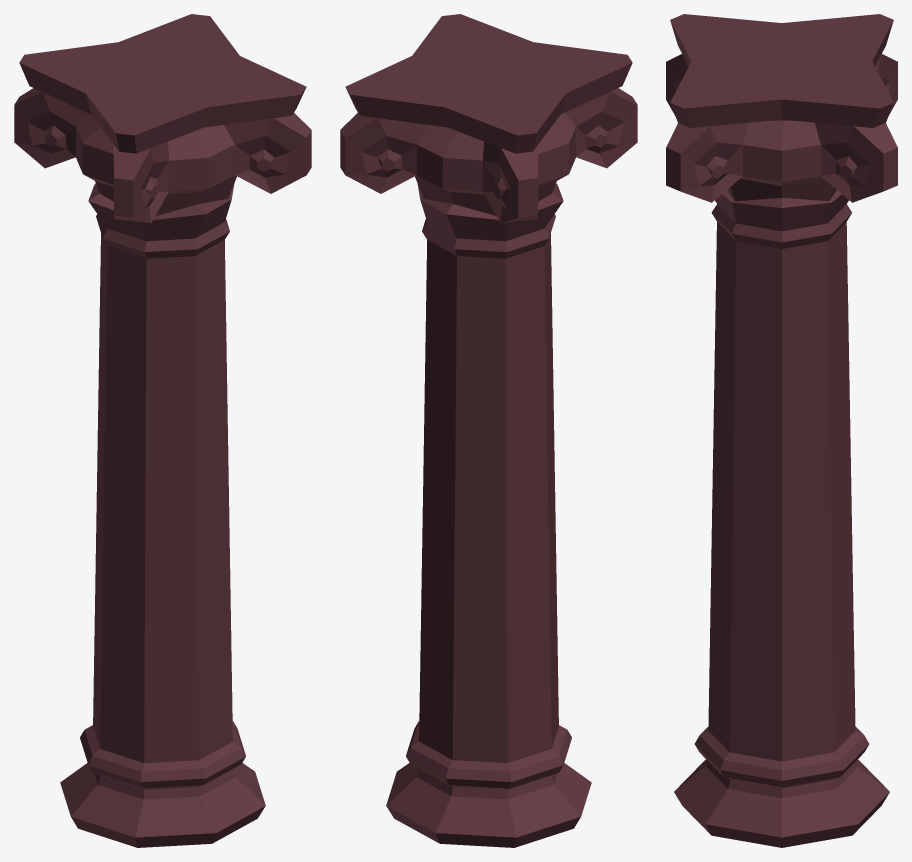
The model's file is SM_Pillar_Composite_Small_Empire.fbx.
3 renders of one model, left to right at view 1: azimuth 30°, elevation 25°; view 2: azimuth 150°, elevation 25°; view 3: azimuth 270°, elevation 25°, orthographic.
Visible parts, largest first — view 1: SM_Pillar_Composite_Small_Empire; view 2: SM_Pillar_Composite_Small_Empire; view 3: SM_Pillar_Composite_Small_Empire.
Part boxes in pixels (box(x1,y1,x2,y2)): SM_Pillar_Composite_Small_Empire: box(14, 14, 311, 847); SM_Pillar_Composite_Small_Empire: box(340, 14, 637, 847); SM_Pillar_Composite_Small_Empire: box(666, 14, 897, 847).
Bounding box in the file's own units: 0.8462 × 3 × 0.8462.
